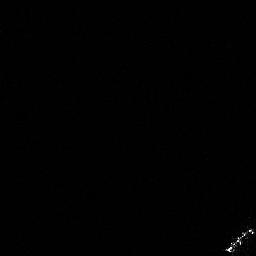ship: (221, 224, 256, 256)
